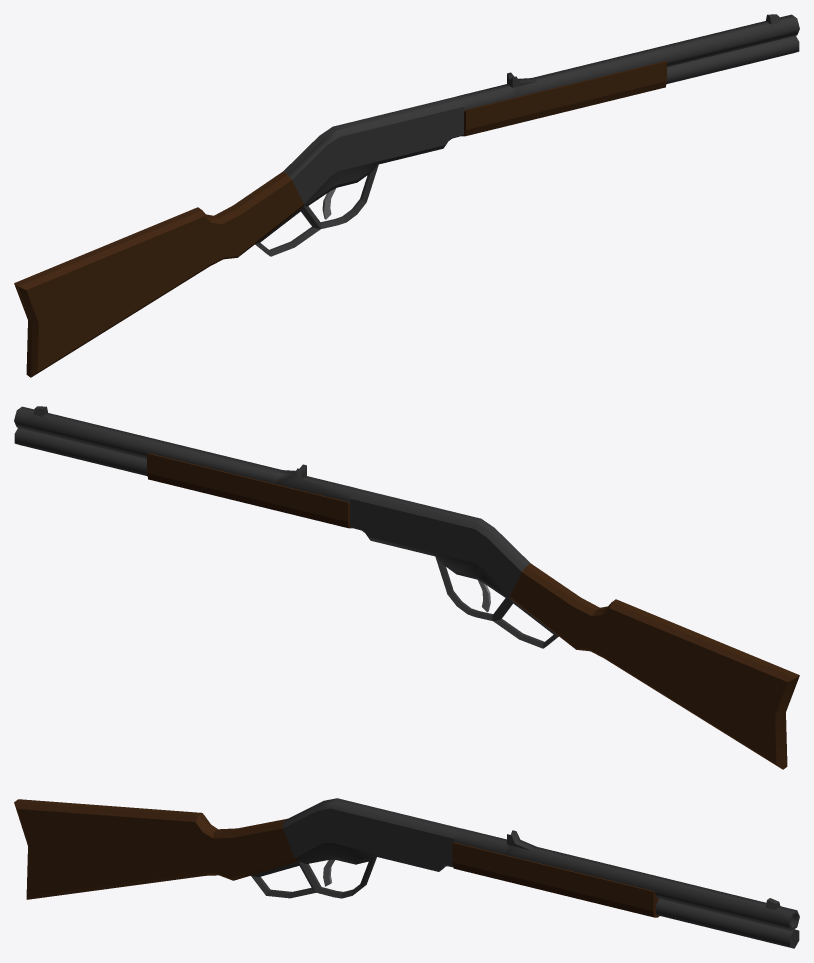
Rendered from Winchester_final.FBX.
3 views of the same model, one above another, from view 1: azimuth 30°, elevation 25°; view 2: azimuth 150°, elevation 25°; view 3: azimuth 330°, elevation 25° (orthographic).
Visible parts, largest first — view 1: Box001, Receiver, Barrel, Forend, Magazine tube; view 2: Box001, Receiver, Barrel, Forend, Magazine tube; view 3: Box001, Receiver, Barrel, Forend, Magazine tube.
Boxes of the visible parts, x1,y1,x2,y2 form: Box001: (14,171,303,377); Receiver: (255,96,463,256); Barrel: (457,14,799,111); Forend: (461,61,666,136); Magazine tube: (666,36,799,84); Box001: (510,563,799,769); Receiver: (350,488,558,648); Barrel: (14,406,356,503); Forend: (147,453,352,528); Magazine tube: (14,428,147,476); Box001: (14,799,298,899); Receiver: (251,798,461,898); Barrel: (454,828,799,930); Forend: (452,842,659,917); Magazine tube: (656,899,799,948).
Size of the model in its own units: 142 by 31.89 by 4.29.
